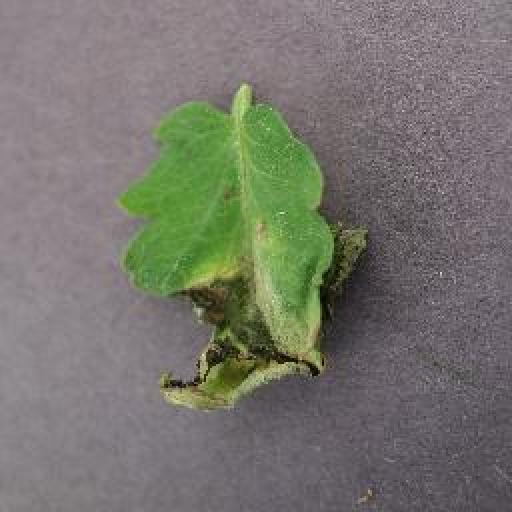Late Blight: (121, 96, 371, 419)
